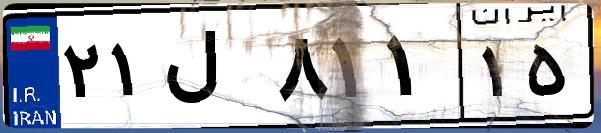1: (385, 28, 445, 110), (330, 28, 385, 110), (475, 38, 525, 113), (110, 28, 158, 98)
2: (57, 26, 110, 100)
5: (525, 38, 570, 115)
8: (270, 28, 330, 110)
ل: (158, 20, 270, 120)
